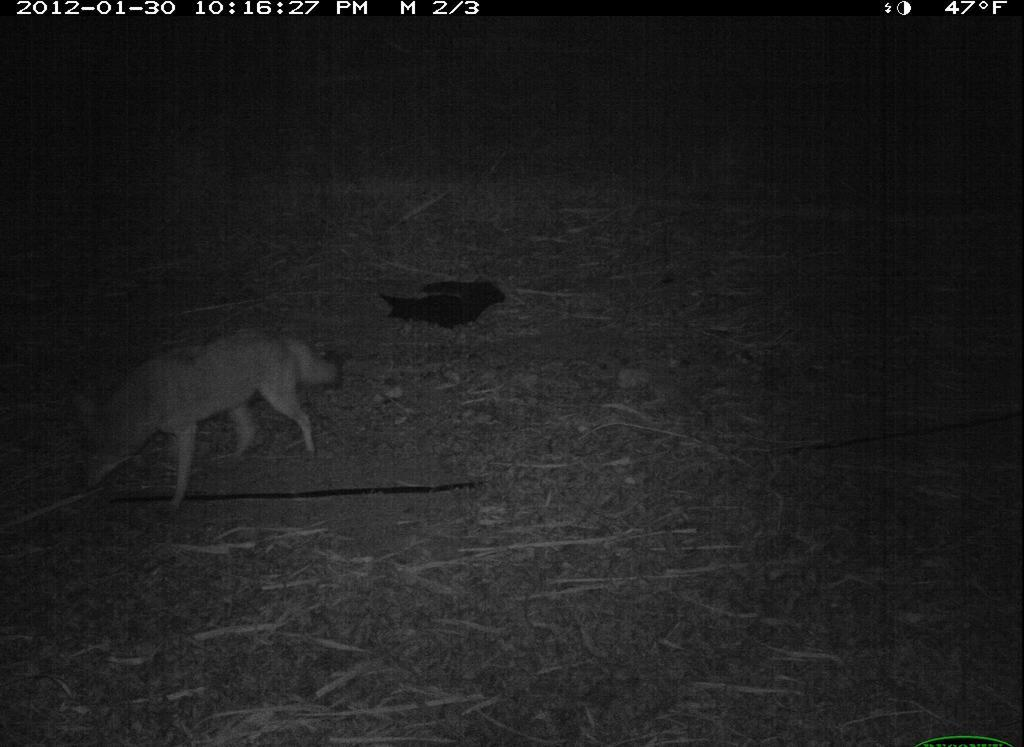coyote: (45, 329, 351, 524)
